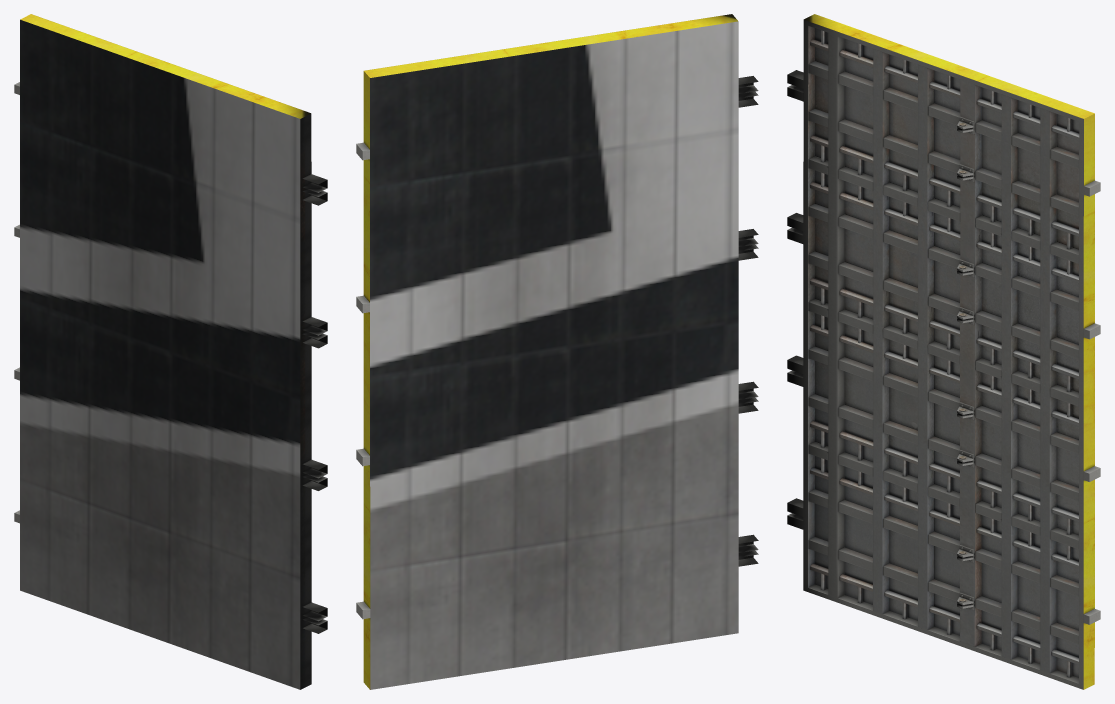
The model's file is deflecteurAx.fbx.
The picture shows the model from 3 angles, left to right: view 1: azimuth 90°, elevation 25°; view 2: azimuth 150°, elevation 25°; view 3: azimuth 270°, elevation 25°; orthographic projection. The views are drawn at different scales.
Visible parts, largest first — view 1: ShapeIndexedFaceSet; view 2: ShapeIndexedFaceSet; view 3: ShapeIndexedFaceSet.
Boxes of the visible parts, left/top/right/bottom form: ShapeIndexedFaceSet: left=14, top=14, right=327, bottom=689; ShapeIndexedFaceSet: left=356, top=14, right=758, bottom=689; ShapeIndexedFaceSet: left=787, top=14, right=1100, bottom=689.
Size of the model in its own units: 3.05 by 7.27 by 3.62.
